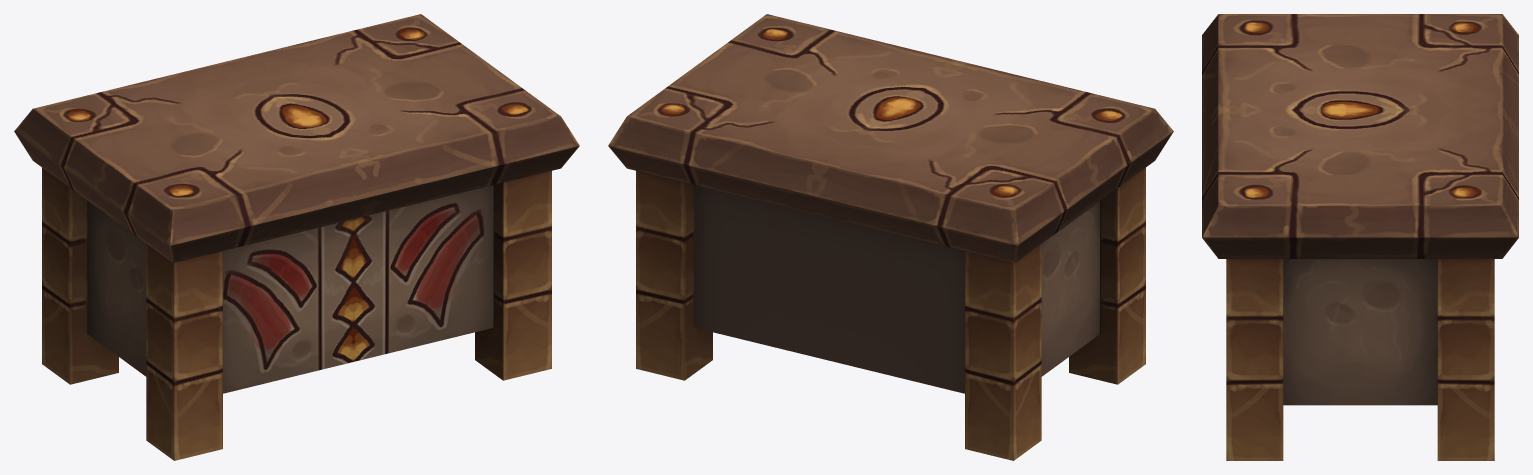
The model's file is et_chest_sm.FBX.
The picture shows the model from 3 angles, left to right: view 1: azimuth 30°, elevation 25°; view 2: azimuth 150°, elevation 25°; view 3: azimuth 270°, elevation 25°; orthographic projection.
Parts seen in each view (by area): view 1: et_chest_sm; view 2: et_chest_sm; view 3: et_chest_sm.
Part boxes in pixels (x1,y1,x2,y2): et_chest_sm: (14, 14, 579, 460); et_chest_sm: (608, 14, 1173, 460); et_chest_sm: (1202, 14, 1518, 460).
Size of what is drawn, in the model's own units: 159 by 105 by 94.19.
